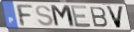B: (89, 6, 109, 28)
E: (69, 4, 93, 28)
F: (14, 4, 35, 28)
M: (49, 4, 77, 29)
S: (35, 5, 55, 28)
V: (105, 5, 126, 29)
